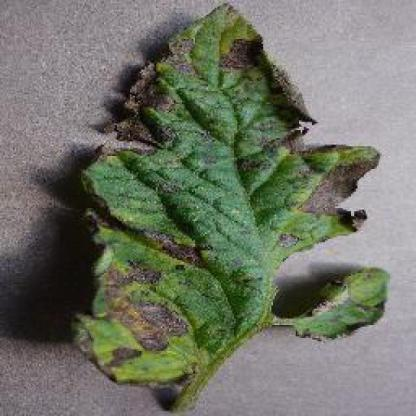Tomato_Blight: (75, 2, 390, 380)
